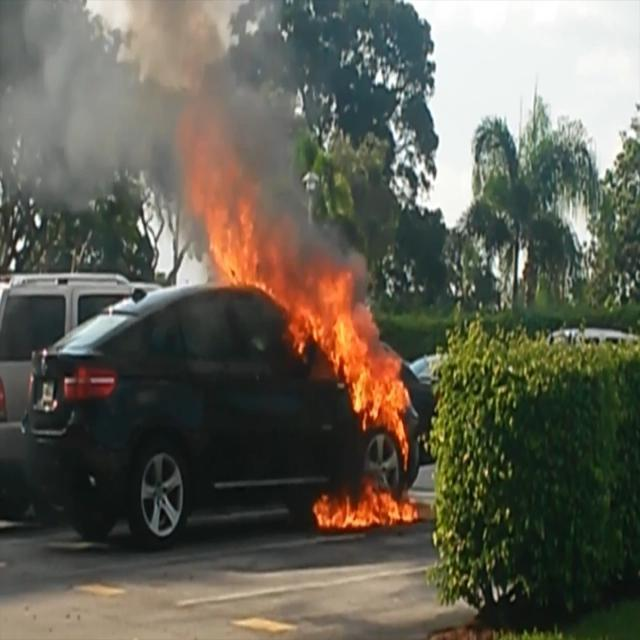fire: (192, 141, 422, 537)
